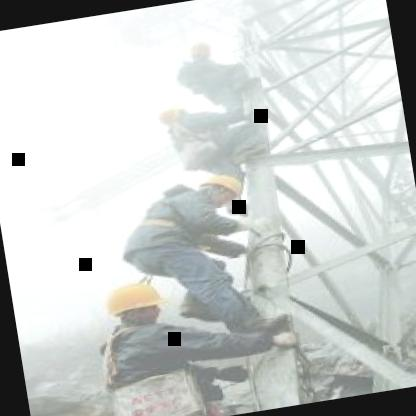helmet: (92, 272, 172, 332), (190, 170, 248, 214), (153, 101, 197, 130), (184, 38, 215, 67)
